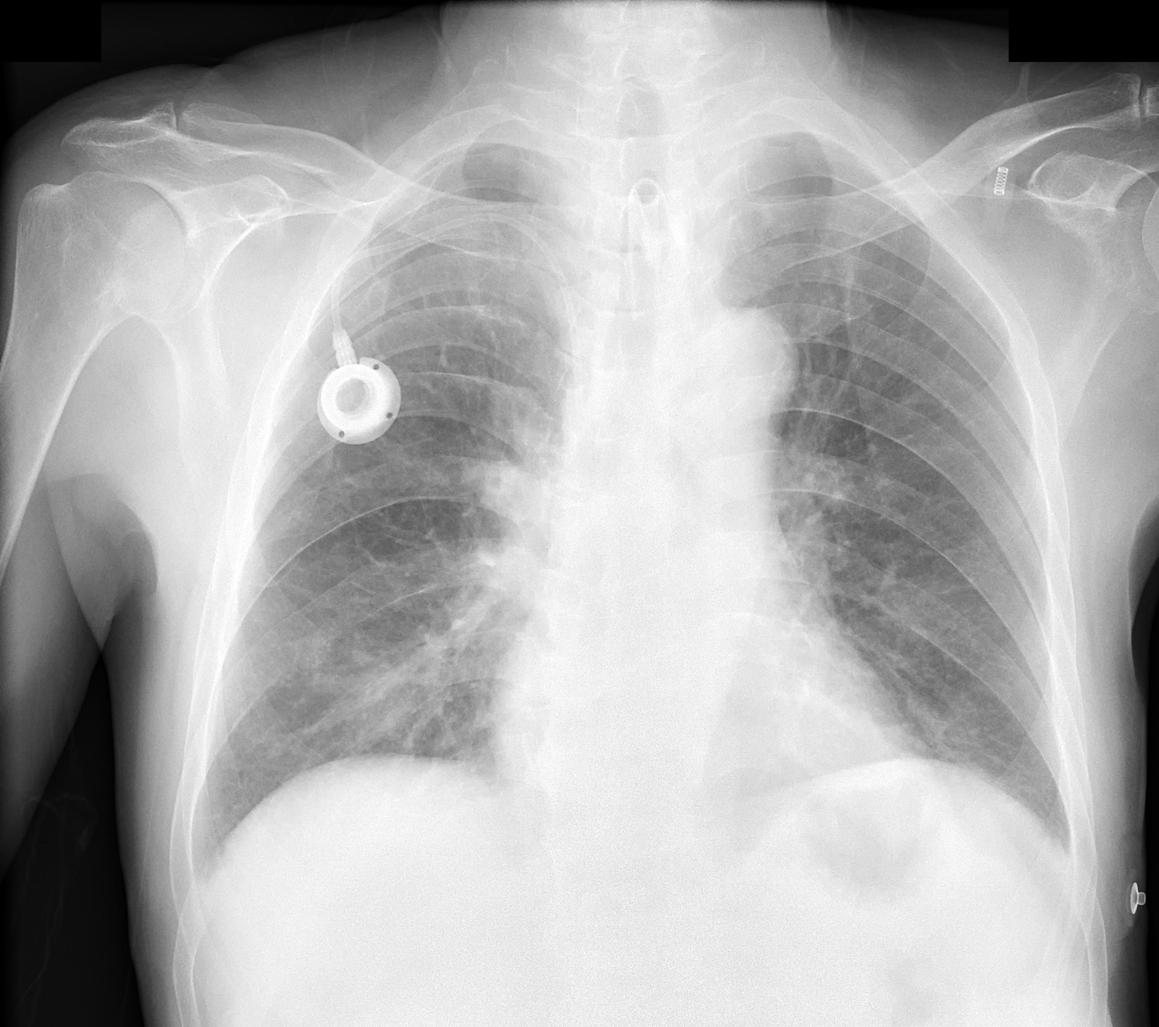Aortic enlargement: (657, 306, 799, 448)
